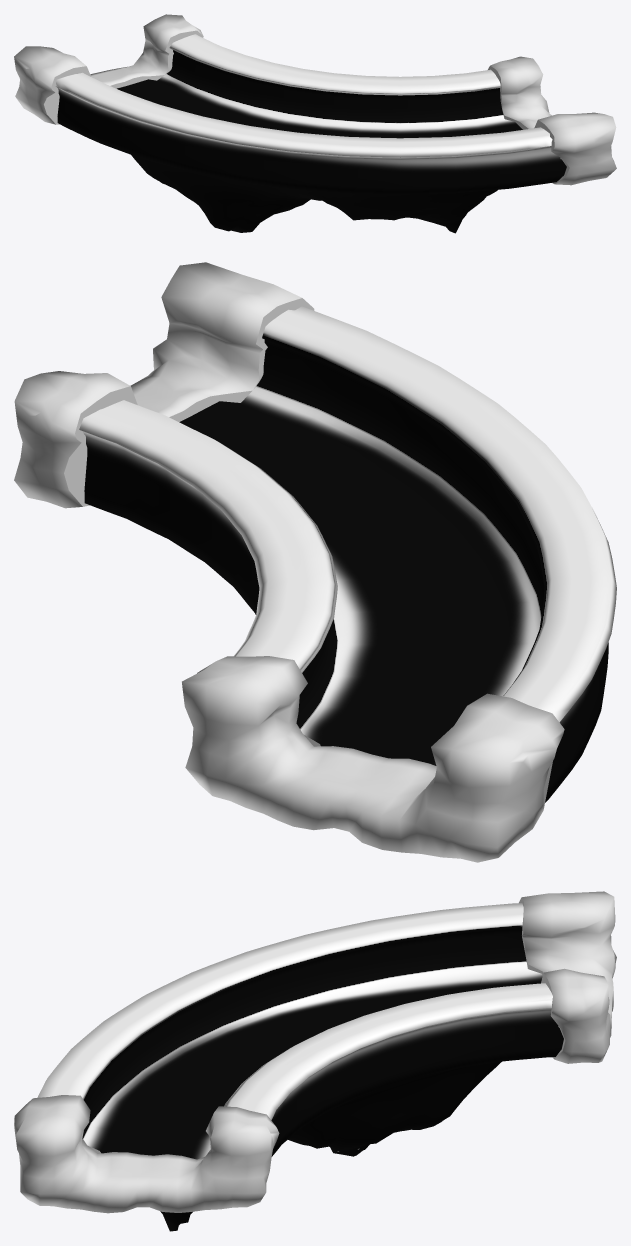
The model's file is StoneBridge_Curved.fbx.
3 renders of one model, top to bottom at view 1: azimuth 30°, elevation 25°; view 2: azimuth 150°, elevation 25°; view 3: azimuth 270°, elevation 25°, orthographic. The views are drawn at different scales.
Visible parts, largest first — view 1: Bridge; view 2: Bridge; view 3: Bridge.
Boxes of the visible parts, box(x1,y1,x2,y2) form: Bridge: box(14, 14, 616, 233); Bridge: box(14, 262, 616, 862); Bridge: box(14, 891, 616, 1231).
Bounding box in the file's own units: 259 × 91.05 × 265.
2 materials, 1 textured.
